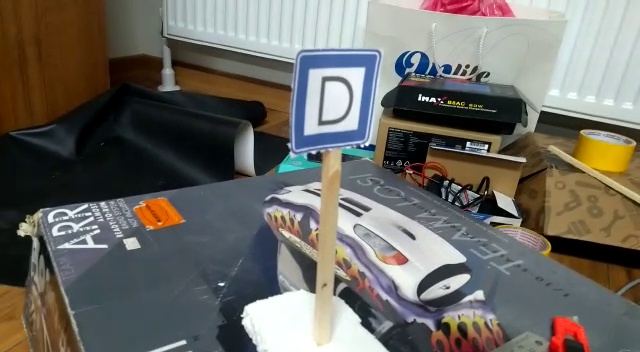durak: (295, 59, 373, 150)
